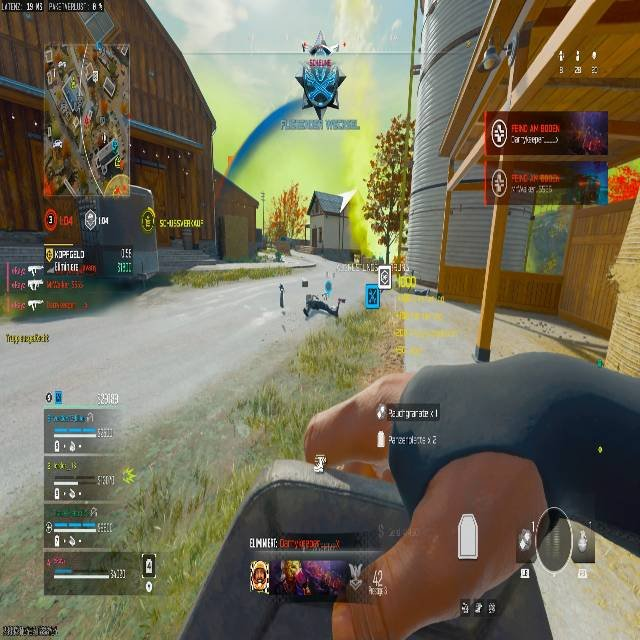head: (310, 44, 331, 57)
player: (294, 42, 346, 119)
